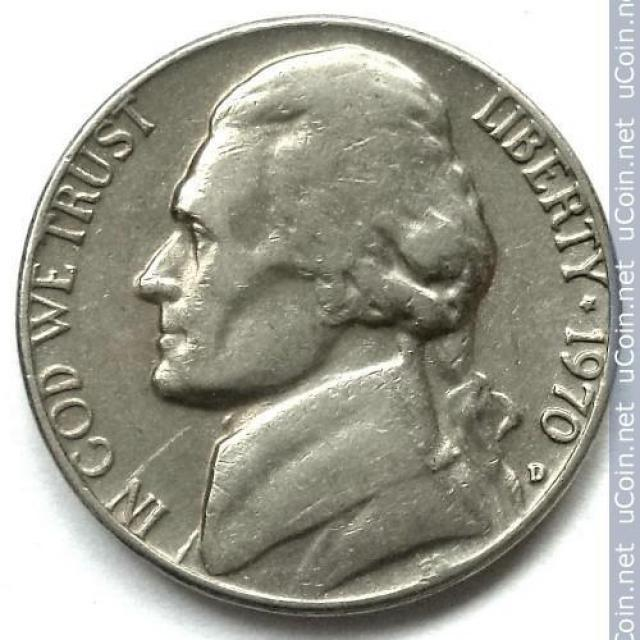Nickel: (19, 11, 639, 638)
